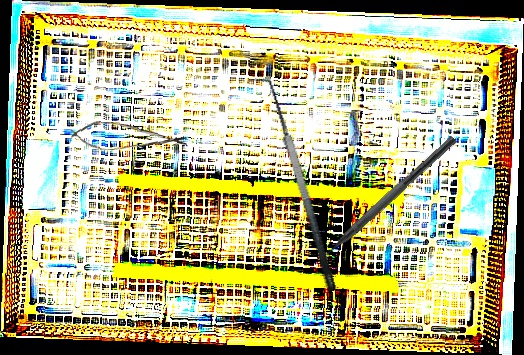Chopper: (305, 126, 458, 270)
Micro Scissor: (70, 119, 188, 155)
Spatula Surgical: (251, 72, 338, 297)
